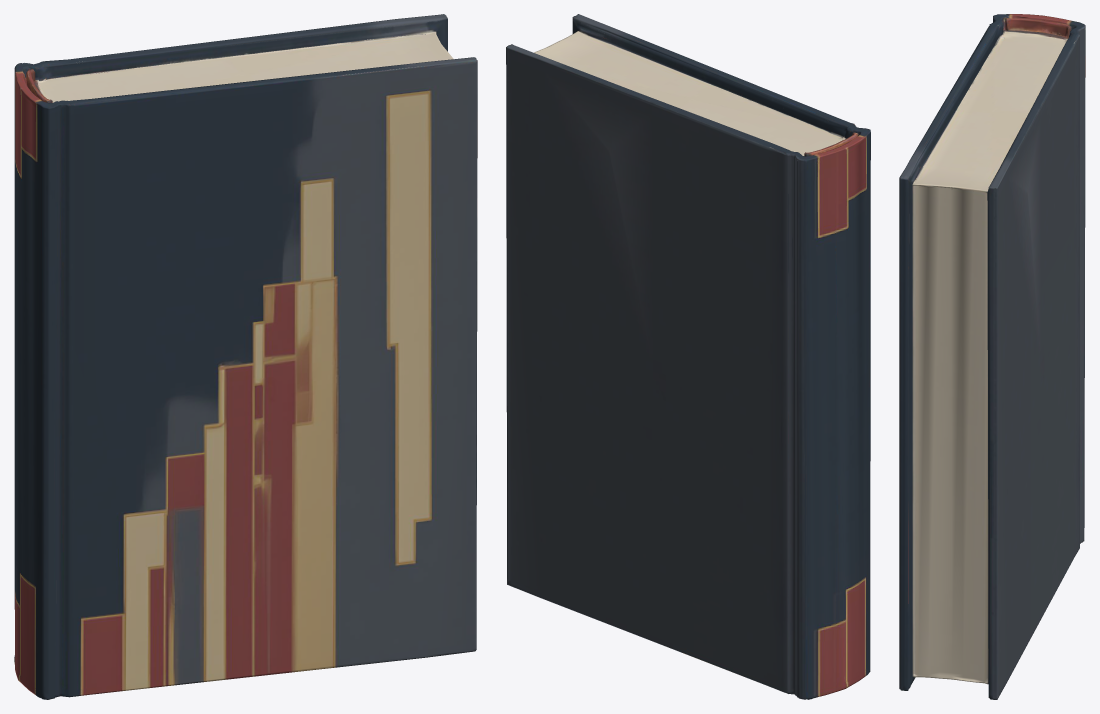
Rendered from high-growth-handbook.glb.
3 renders of one model, left to right at view 1: azimuth 30°, elevation 25°; view 2: azimuth 150°, elevation 25°; view 3: azimuth 270°, elevation 25°, orthographic. The views are drawn at different scales.
Visible parts, largest first — view 1: High Growth Handbook; view 2: High Growth Handbook; view 3: High Growth Handbook.
Part boxes in pixels (x1,y1,x2,y2): High Growth Handbook: [14, 14, 477, 699]; High Growth Handbook: [506, 14, 870, 699]; High Growth Handbook: [899, 14, 1085, 699].
Size of the model in its own units: 0.7051 by 0.998 by 0.3262.
1 material, 1 textured.
